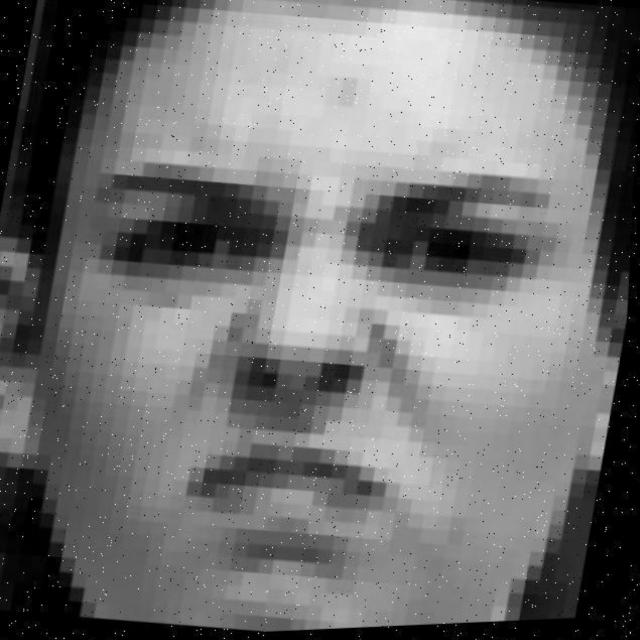Angry: (0, 32, 640, 592)
